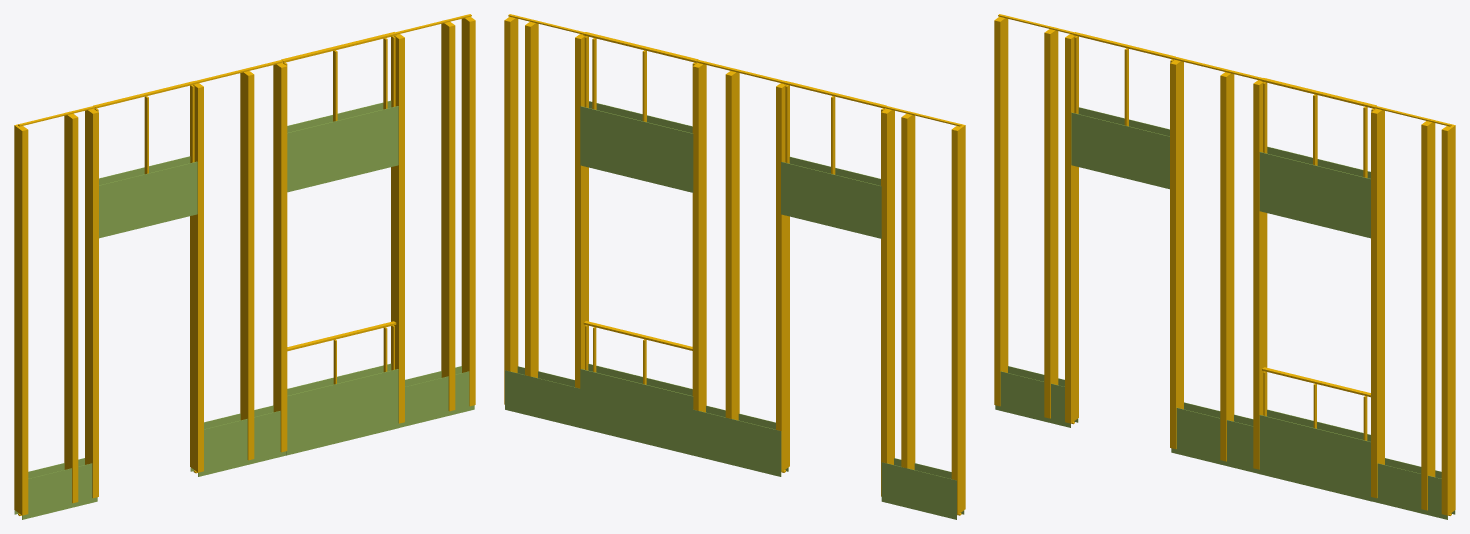
File: Ifc4_WallElementedCase.obj
3 renders of one model, left to right at view 1: azimuth 30°, elevation 25°; view 2: azimuth 150°, elevation 25°; view 3: azimuth 330°, elevation 25°, orthographic.
Visible parts, largest first — view 1: Studs_0y81T5OQ921PKefugNkz2z, Panel_Forward_1dhqqYR5v9EPzs7Ts1dOEX, Panel_Reverse_3dca$PAJT1XA6b06dQW26g, Track_3E4igxyD1F5w4vj3LTAREz; view 2: Studs_0y81T5OQ921PKefugNkz2z, Panel_Reverse_3dca$PAJT1XA6b06dQW26g, Panel_Forward_1dhqqYR5v9EPzs7Ts1dOEX, Track_3E4igxyD1F5w4vj3LTAREz; view 3: Studs_0y81T5OQ921PKefugNkz2z, Panel_Forward_1dhqqYR5v9EPzs7Ts1dOEX, Panel_Reverse_3dca$PAJT1XA6b06dQW26g, Track_3E4igxyD1F5w4vj3LTAREz.
Part boxes in pixels (x1,y1,x2,y2): Studs_0y81T5OQ921PKefugNkz2z: [14, 16, 475, 515]; Panel_Forward_1dhqqYR5v9EPzs7Ts1dOEX: [22, 106, 474, 519]; Panel_Reverse_3dca$PAJT1XA6b06dQW26g: [14, 100, 461, 514]; Track_3E4igxyD1F5w4vj3LTAREz: [18, 14, 471, 515]; Studs_0y81T5OQ921PKefugNkz2z: [504, 16, 965, 514]; Panel_Reverse_3dca$PAJT1XA6b06dQW26g: [505, 106, 956, 519]; Panel_Forward_1dhqqYR5v9EPzs7Ts1dOEX: [517, 101, 964, 514]; Track_3E4igxyD1F5w4vj3LTAREz: [508, 14, 961, 515]; Studs_0y81T5OQ921PKefugNkz2z: [994, 16, 1455, 515]; Panel_Forward_1dhqqYR5v9EPzs7Ts1dOEX: [995, 112, 1447, 519]; Panel_Reverse_3dca$PAJT1XA6b06dQW26g: [1008, 107, 1455, 514]; Track_3E4igxyD1F5w4vj3LTAREz: [998, 14, 1451, 515].
Bounding box in the file's own units: 3.67 × 3.04 × 0.1134.
